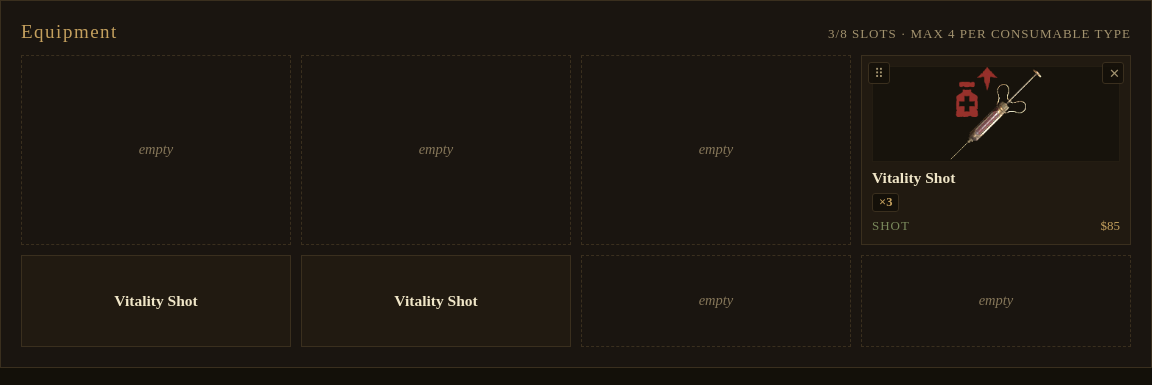
Scenario: the ✕ remove control (issue #303) › removing a stack anchor empties one copy; the rest close up and re-anchor without shifting code
Step 1. Click the button "✕" → (1113, 73), box [1102,62,1124,84]
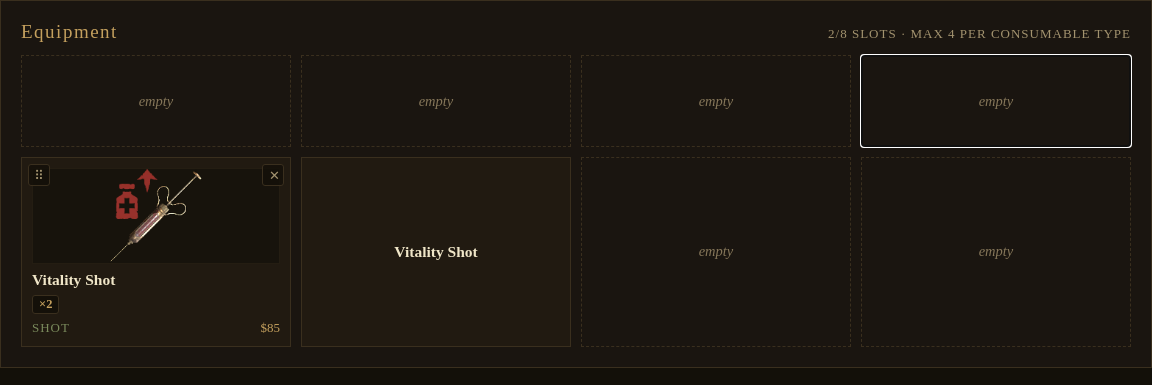
Check: the text with test id "stack-badge-4" reads "×2", box [32,295,59,314]
